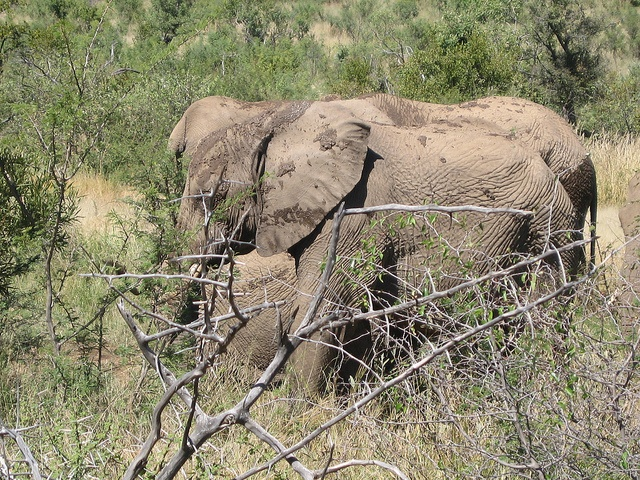elephant: (157, 93, 598, 411)
